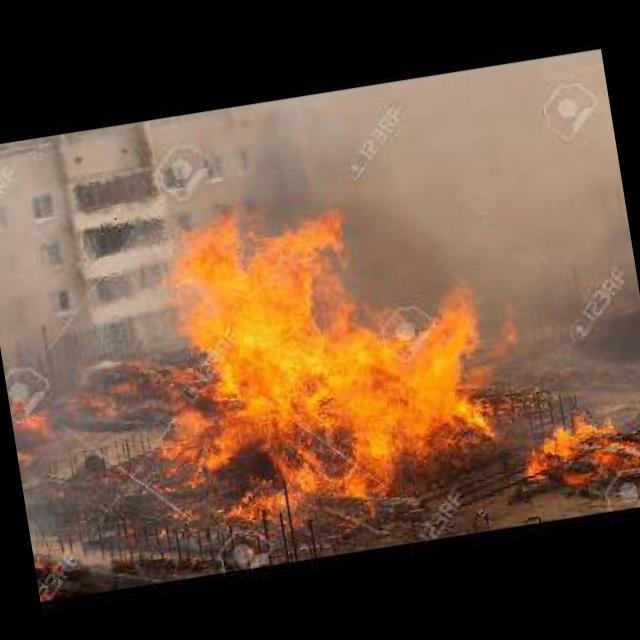fire: (136, 159, 508, 542), (515, 401, 640, 513), (31, 540, 52, 600)
